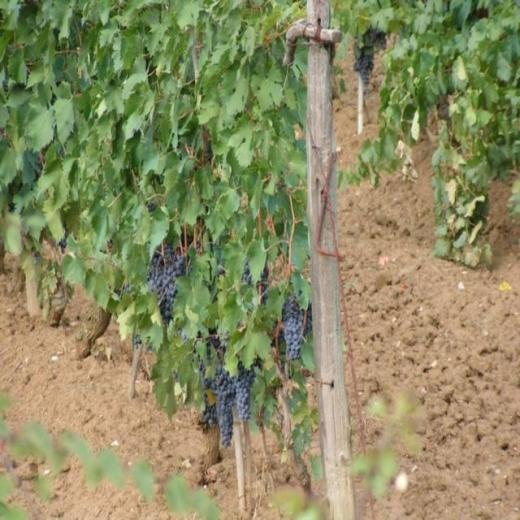Orange: (122, 243, 192, 353), (272, 288, 314, 375), (194, 328, 225, 429), (212, 360, 236, 450), (351, 27, 384, 91), (234, 355, 261, 419), (239, 257, 270, 308), (20, 222, 43, 266), (143, 200, 157, 216), (60, 231, 68, 254)
